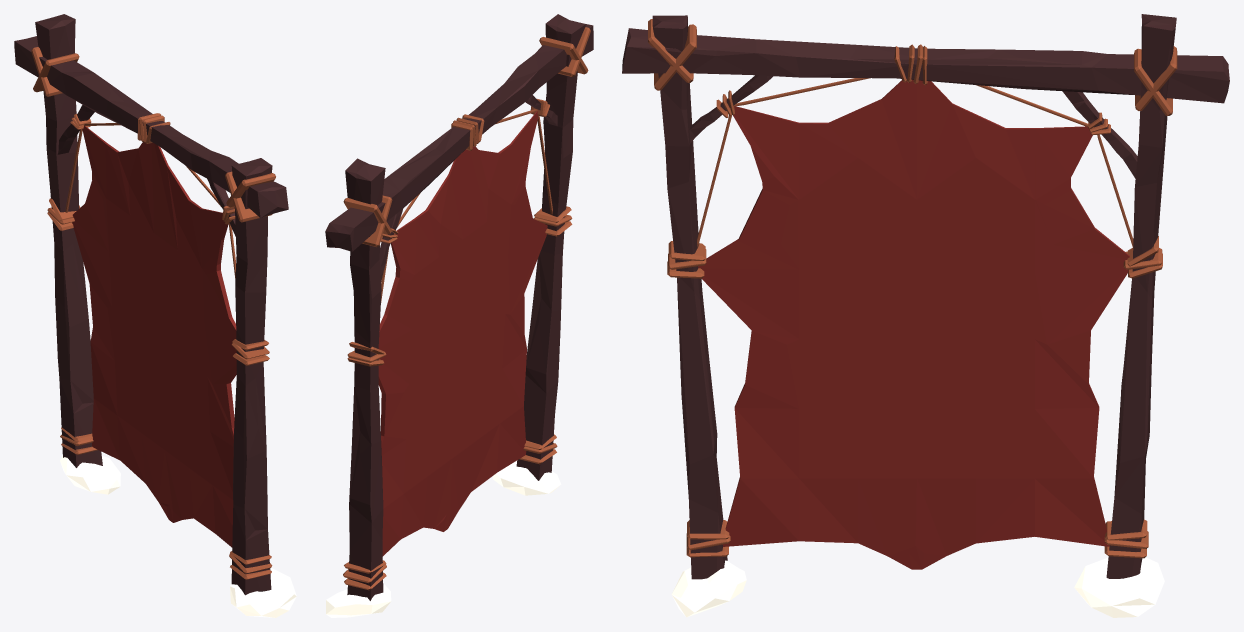
File: HuntsmanAsset.fbx
The picture shows the model from 3 angles, left to right: view 1: azimuth 30°, elevation 25°; view 2: azimuth 150°, elevation 25°; view 3: azimuth 270°, elevation 25°; orthographic projection. The views are drawn at different scales.
Parts seen in each view (by area): view 1: Buckskin; view 2: Buckskin; view 3: Buckskin.
Part boxes in pixels (x1,y1,x2,y2): Buckskin: [14, 14, 296, 617]; Buckskin: [325, 14, 593, 617]; Buckskin: [622, 14, 1229, 617].
Bounding box in the file's own units: 106 × 638 × 611.
